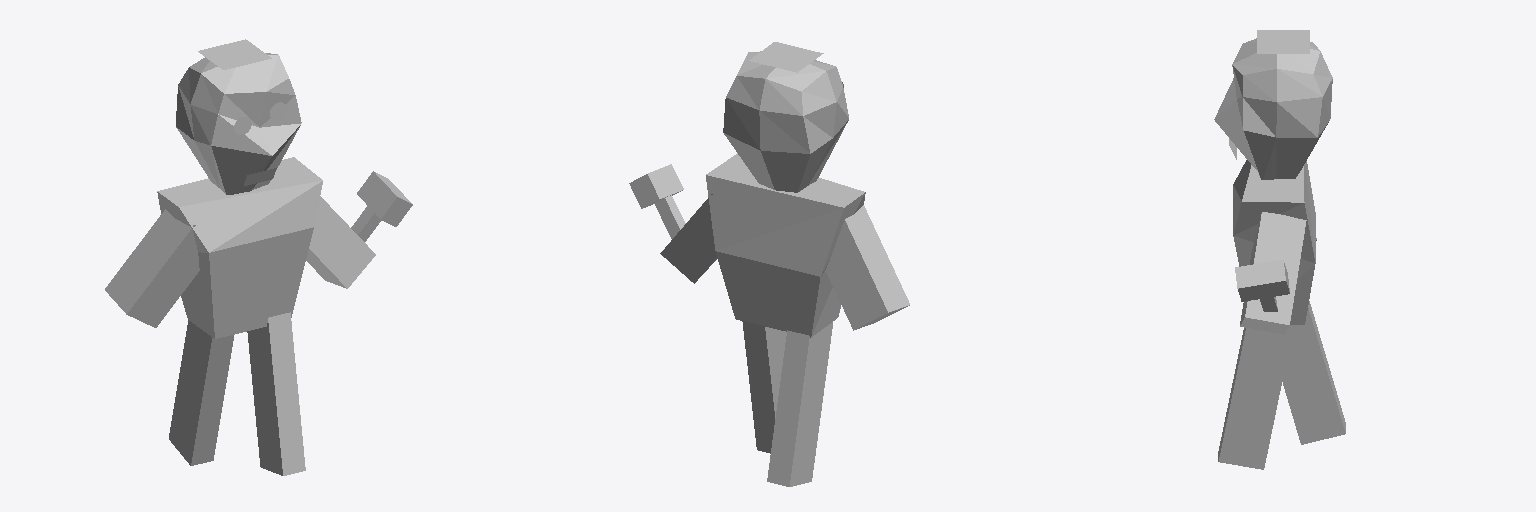
Rendered from servant2.obj.
3 views of the same model, side by side, from view 1: azimuth 30°, elevation 25°; view 2: azimuth 150°, elevation 25°; view 3: azimuth 270°, elevation 25° (orthographic).
Parts seen in each view (by area): view 1: Cube.001, Cube, Cube.005, Cube.003, Cube.004, Cube.002, Cube.008, Plane.002, Cube.007; view 2: Cube.001, Cube, Cube.004, Cube.003, Cube.005, Cube.002, Cube.008, Plane.002, Cube.007; view 3: Cube, Cube.005, Cube.001, Cube.004, Cube.002, Cube.008, Plane.002.
Boxes of the visible parts, <box> form: Cube.001: <box>157,157,322,338</box>; Cube: <box>176,53,301,194</box>; Cube.005: <box>247,312,305,475</box>; Cube.003: <box>105,209,199,327</box>; Cube.004: <box>169,320,233,465</box>; Cube.002: <box>306,196,375,288</box>; Cube.008: <box>357,171,412,226</box>; Plane.002: <box>198,39,271,69</box>; Cube.007: <box>351,206,381,241</box>; Cube.001: <box>706,153,865,337</box>; Cube: <box>723,51,848,192</box>; Cube.004: <box>767,322,832,486</box>; Cube.003: <box>825,205,909,330</box>; Cube.005: <box>742,321,786,453</box>; Cube.002: <box>660,194,717,283</box>; Cube.008: <box>629,164,683,208</box>; Plane.002: <box>749,42,823,72</box>; Cube.007: <box>654,195,685,238</box>; Cube: <box>1214,38,1332,179</box>; Cube.005: <box>1218,325,1293,469</box>; Cube.001: <box>1233,160,1315,324</box>; Cube.004: <box>1282,301,1345,444</box>; Cube.002: <box>1240,212,1306,334</box>; Cube.008: <box>1235,260,1289,301</box>; Plane.002: <box>1257,30,1309,53</box>.
Bounding box in the file's own units: 4.16 × 5.99 × 1.75.